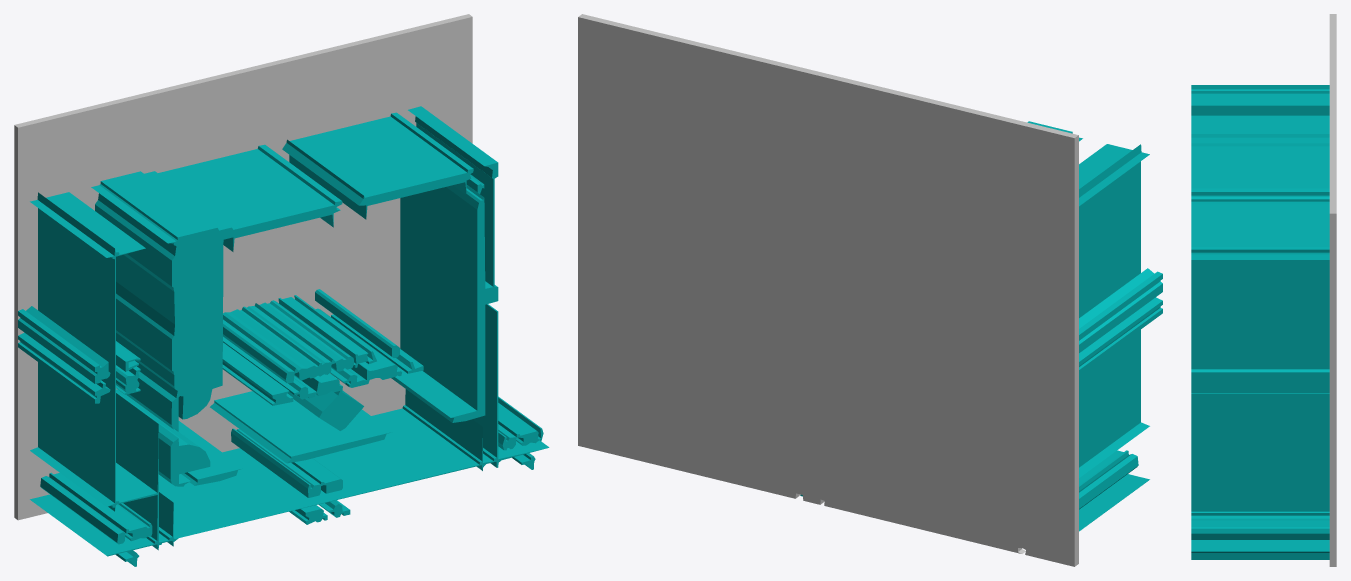
3 views of the same model, side by side, from view 1: azimuth 30°, elevation 25°; view 2: azimuth 150°, elevation 25°; view 3: azimuth 270°, elevation 25° (orthographic). The views are drawn at different scales.
Visible parts, largest first — view 1: world; view 2: world; view 3: world.
Part boxes in pixels (<box>): world: <box>14,14,549,566</box>; world: <box>578,14,1162,566</box>; world: <box>1191,14,1336,566</box>.
Bounding box in the file's own units: 10.23 × 8.44 × 3.15.
